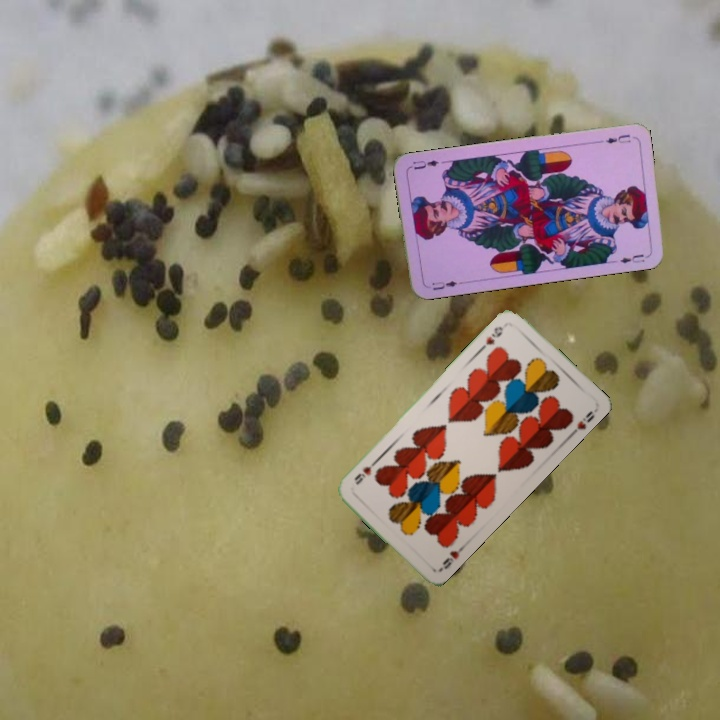EU: (424, 277, 464, 293), (594, 131, 633, 146)
H9: (435, 541, 468, 574), (482, 322, 506, 348)
